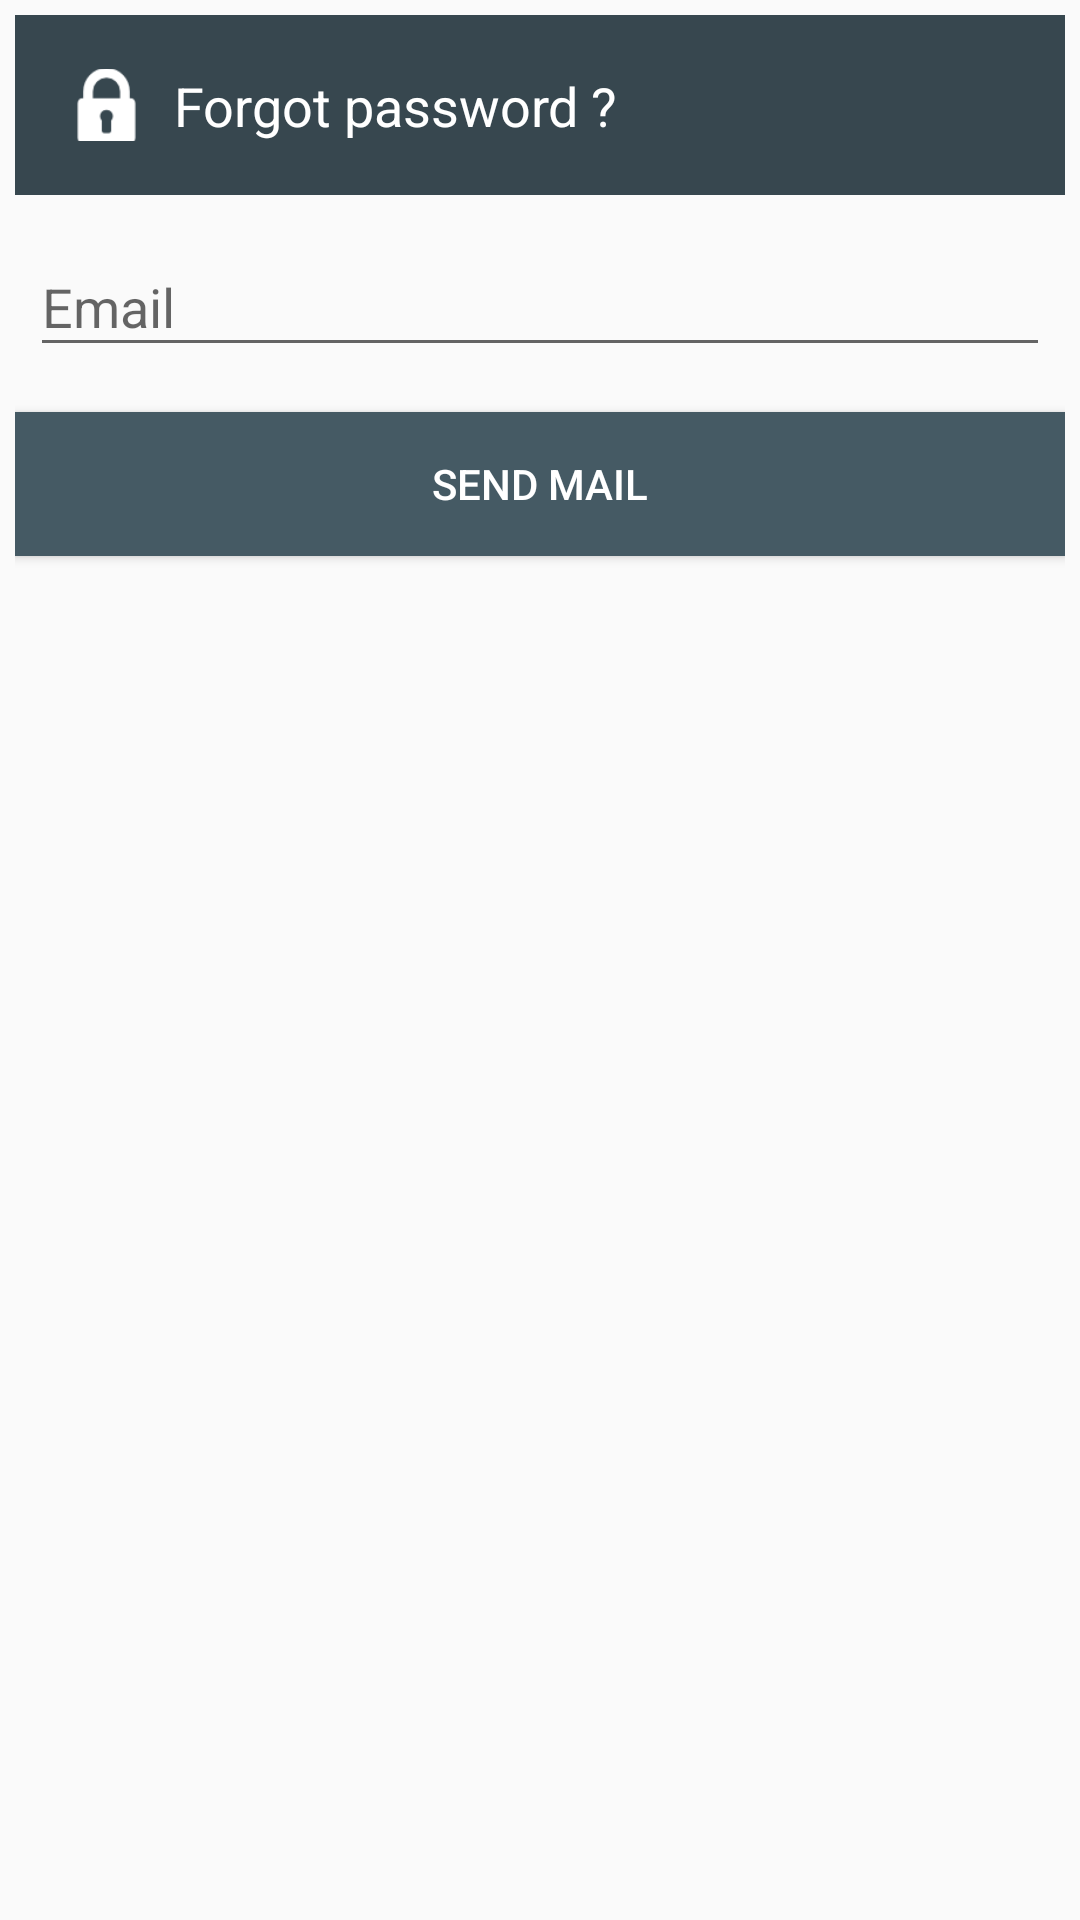

Icons on this 1080w x 1920h Android screen, each with the point to tap as (x,y):
lock: (106,105)
